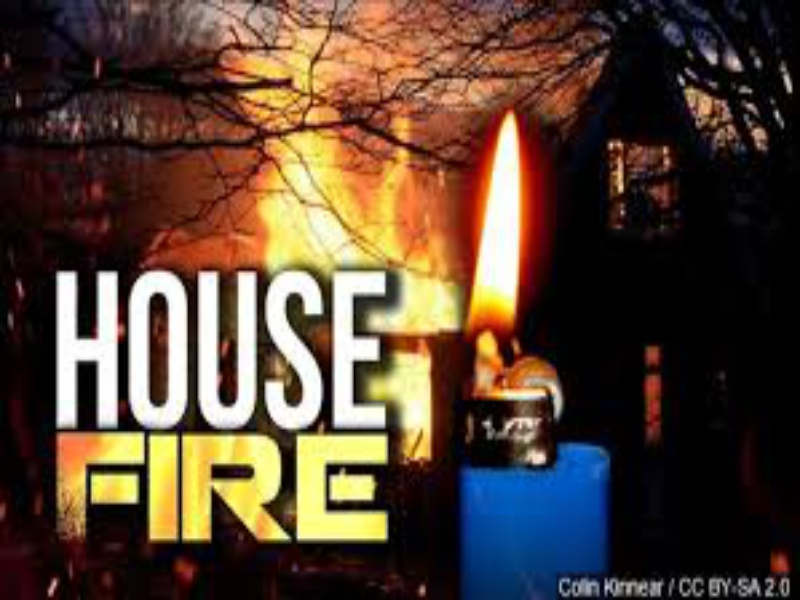fire: (202, 61, 427, 265), (463, 102, 535, 342), (398, 263, 460, 335)
